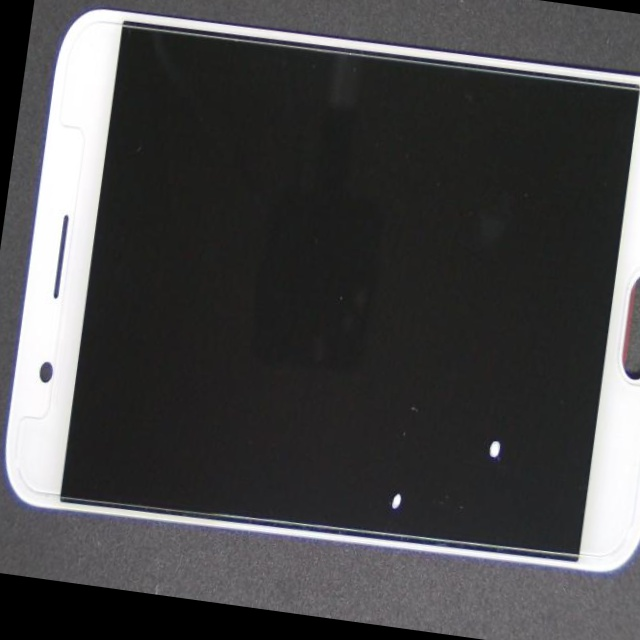stain: (181, 162, 635, 640), (231, 166, 640, 640)
